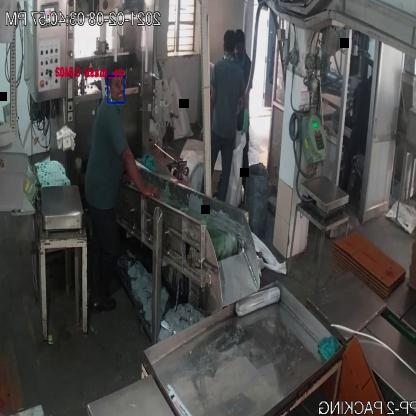no_glove: (119, 137, 162, 205)
